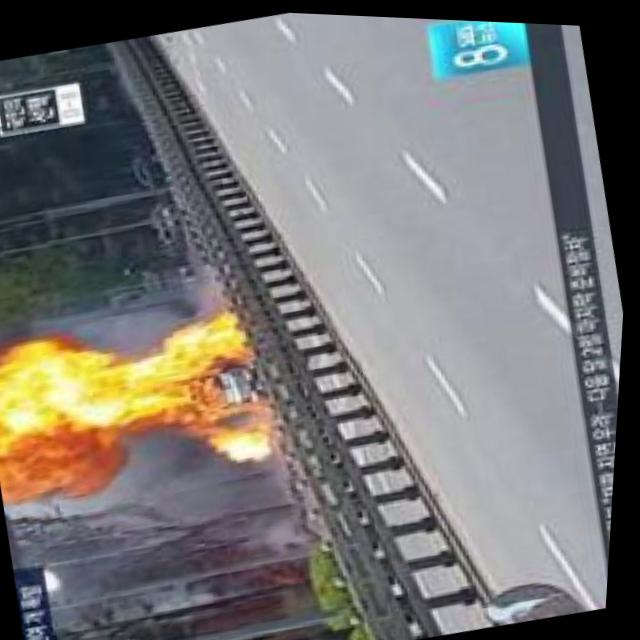Fire: (160, 304, 285, 473), (0, 325, 118, 492), (102, 346, 187, 440)
